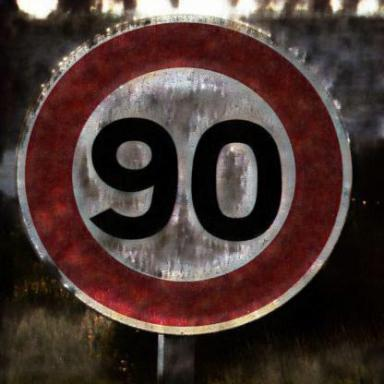Speed_limit_90: (28, 25, 346, 321)
